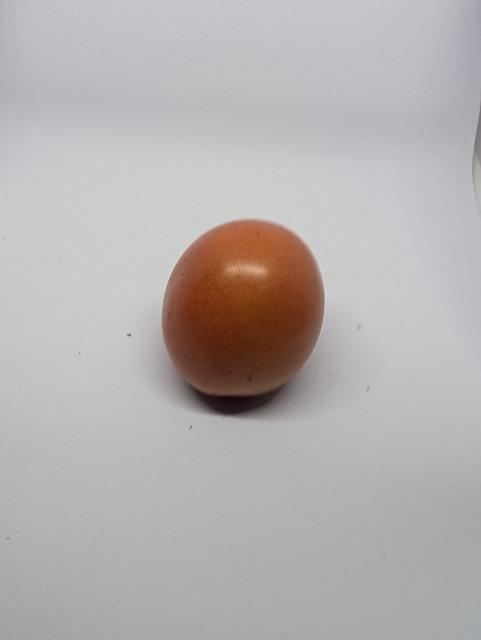red: (151, 215, 340, 416)
